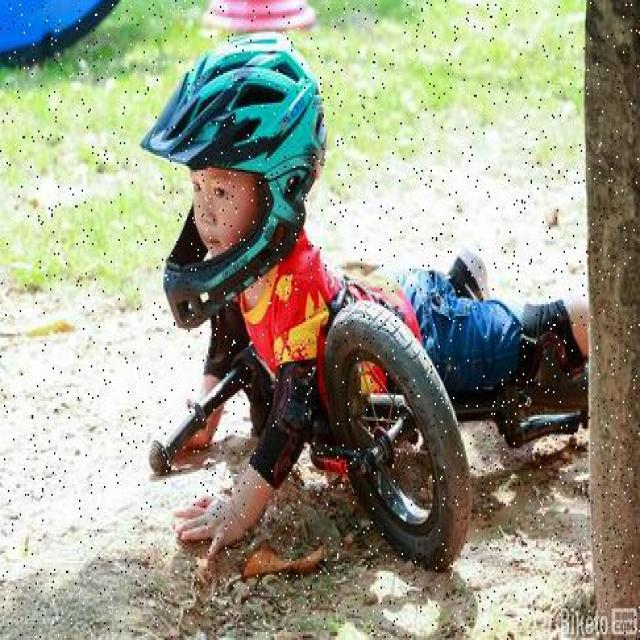fall: (164, 140, 576, 460)
